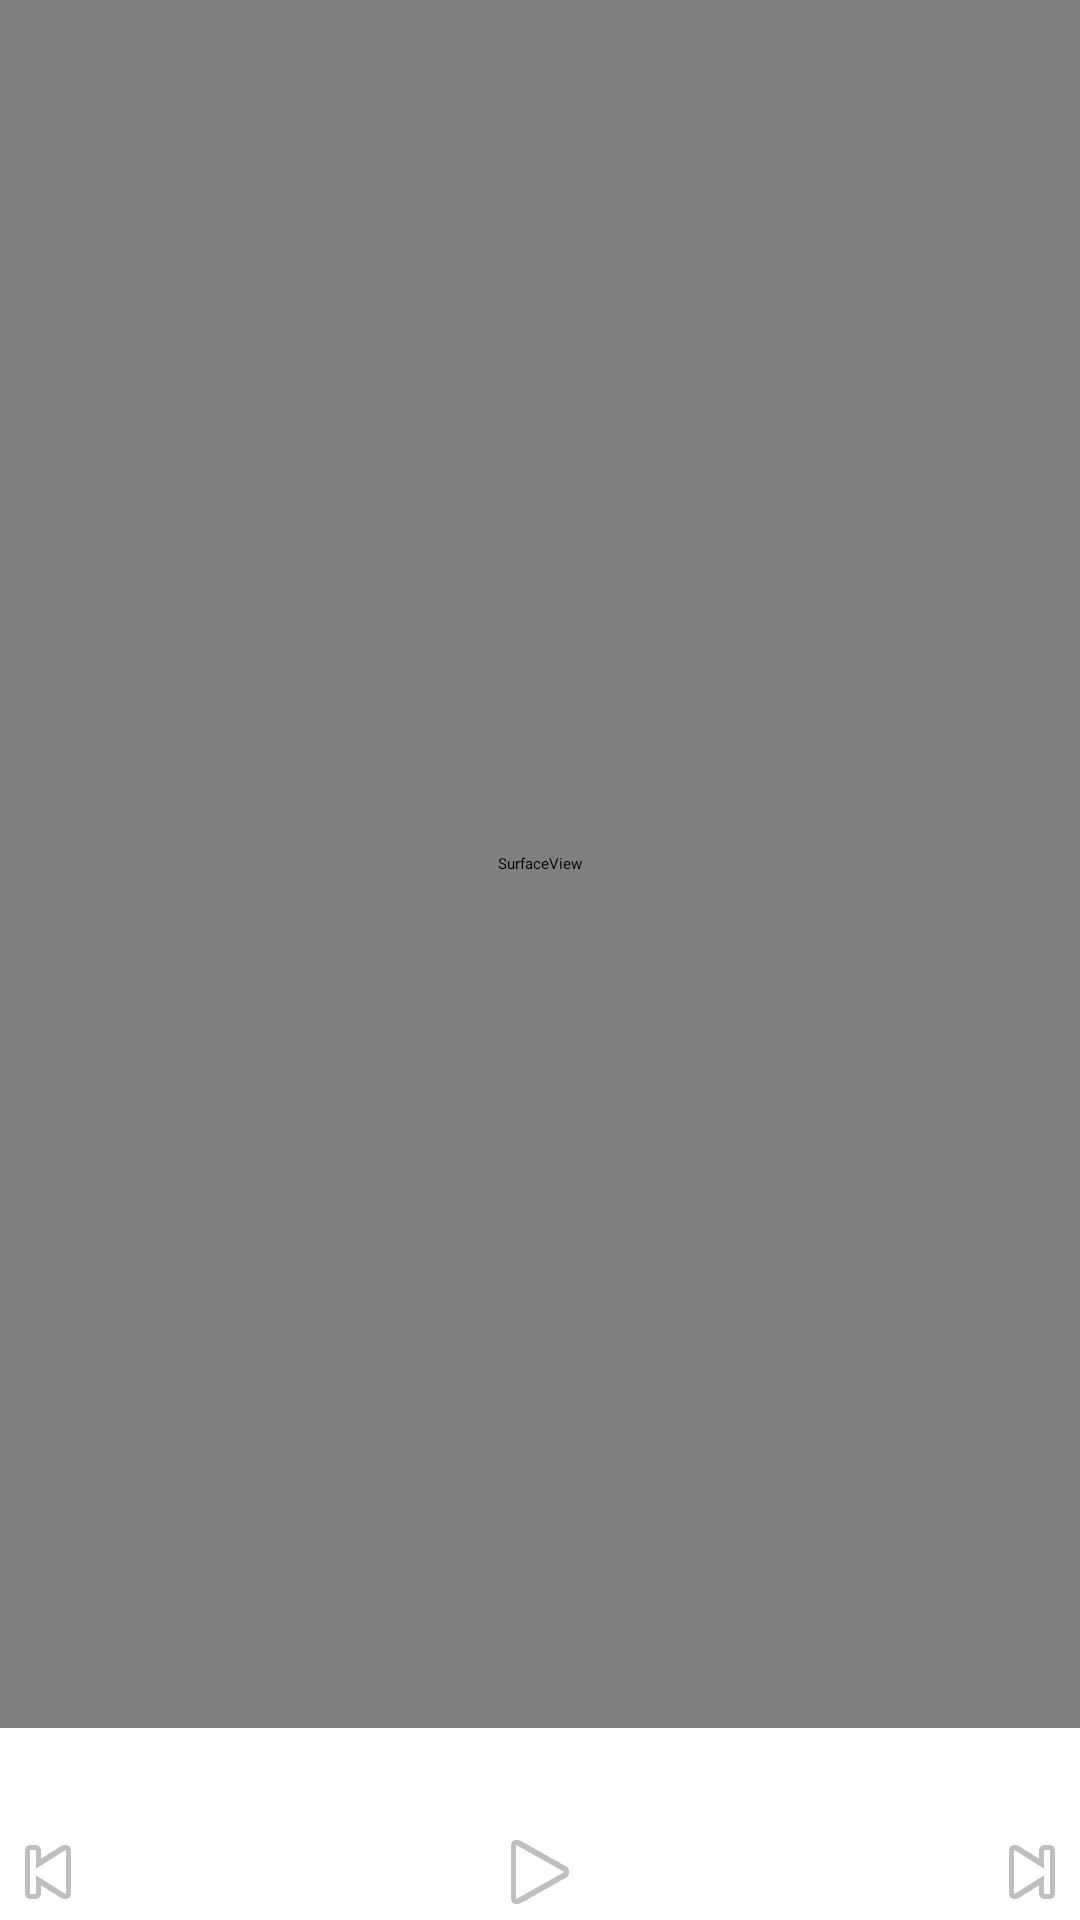

Screen size 1080*1920. Icon name, then its box in pixels as (x1, y1, x2, y2):
Next: (1009, 1845, 1055, 1899)
Play: (511, 1840, 569, 1904)
Previous: (25, 1845, 71, 1899)
